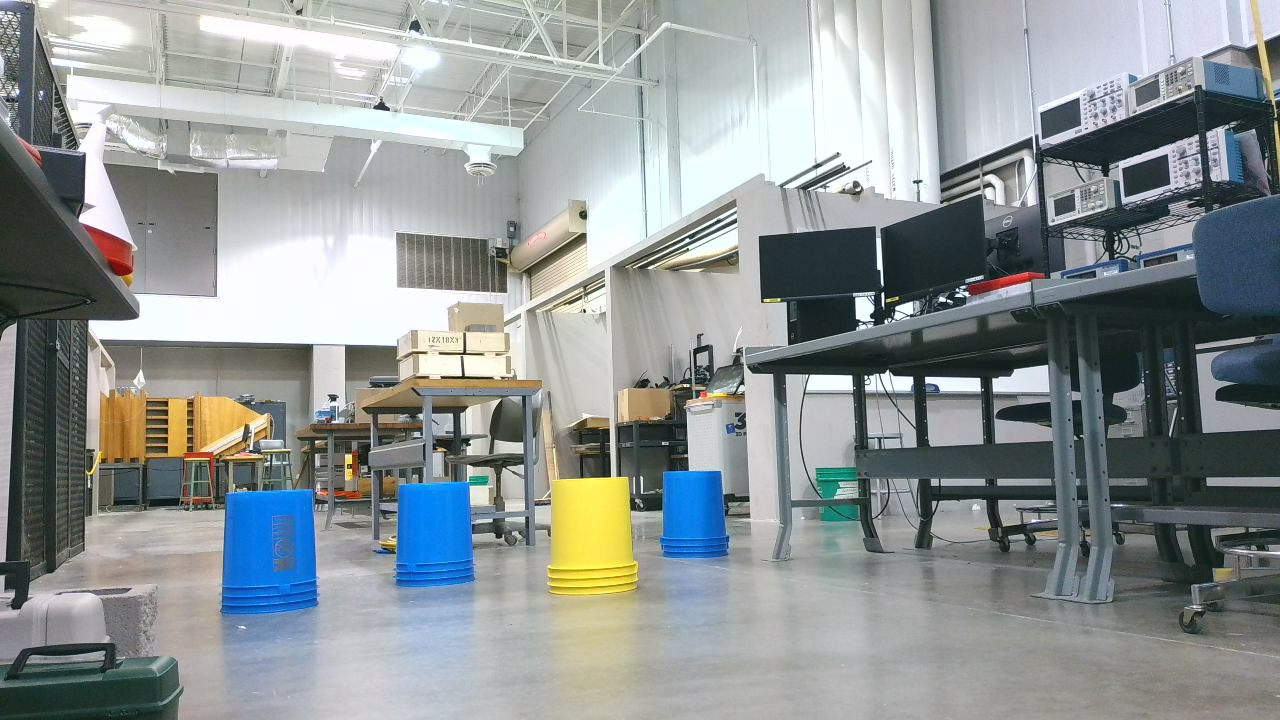blue_bucket: (220, 488, 334, 623), (541, 479, 652, 602), (393, 483, 485, 592), (660, 473, 741, 567)
